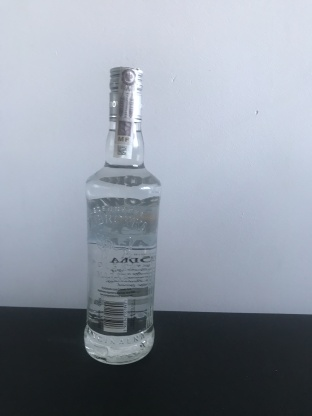nakretka: (106, 60, 145, 125)
